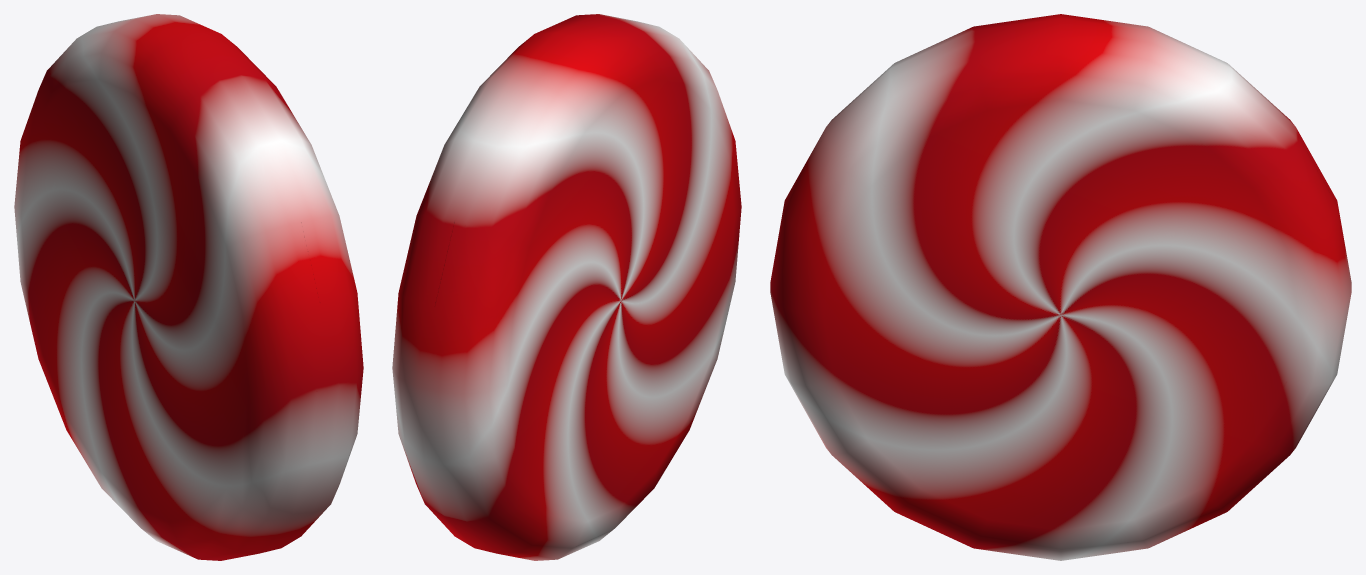
File: candy.fbx
3 views of the same model, side by side, from view 1: azimuth 30°, elevation 25°; view 2: azimuth 150°, elevation 25°; view 3: azimuth 270°, elevation 25° (orthographic). The views are drawn at different scales.
Visible parts, largest first — view 1: Cylinder.001; view 2: Cylinder.001; view 3: Cylinder.001.
Part boxes in pixels (box(x1,y1,x2,y2)): Cylinder.001: box(14, 14, 363, 560); Cylinder.001: box(392, 14, 741, 560); Cylinder.001: box(770, 14, 1351, 560).
Bounding box in the file's own units: 45.09 × 200 × 200.
Materials: 1 (1 with a texture image).
